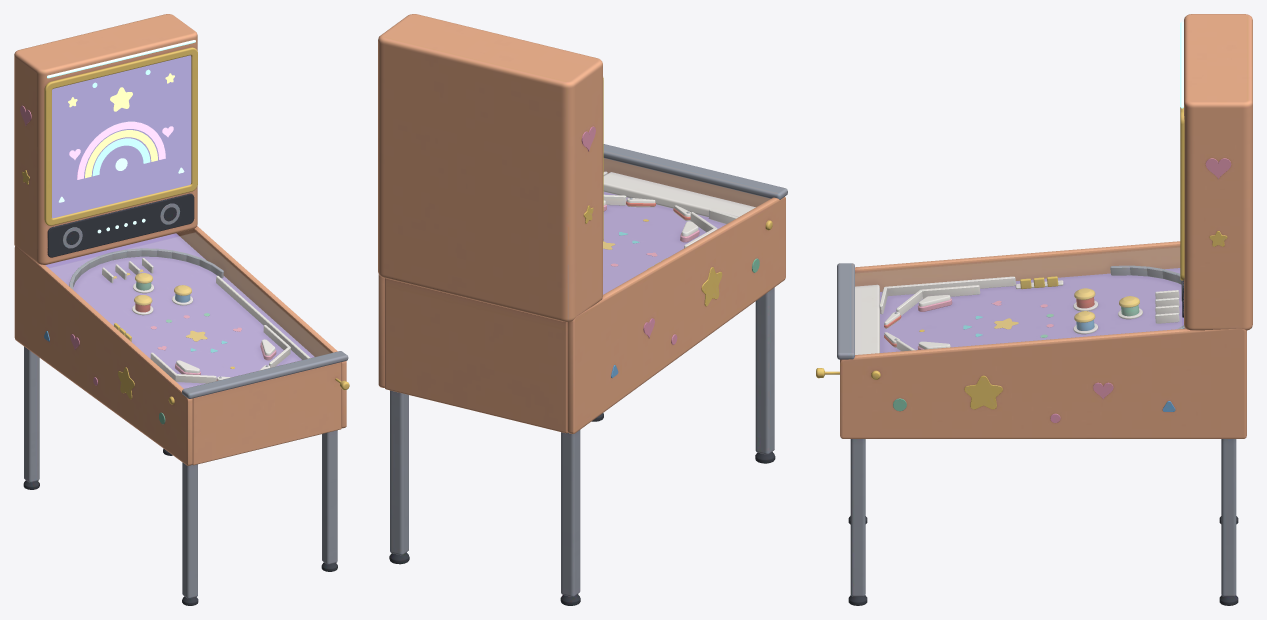
The model's file is grab3d-pinball-machine.glb.
The picture shows the model from 3 angles, left to right: view 1: azimuth 30°, elevation 25°; view 2: azimuth 150°, elevation 25°; view 3: azimuth 270°, elevation 25°; orthographic projection. The views are drawn at different scales.
Visible parts, largest first — view 1: pinball-machine_body, pinball-machine_glass, pinball-machine_backglass_glow, pinball-machine_top_neon; view 2: pinball-machine_body, pinball-machine_glass; view 3: pinball-machine_body, pinball-machine_glass.
Boxes of the visible parts, box(x1,y1,x2,y2) form: pinball-machine_body: box(14, 14, 349, 605); pinball-machine_glass: box(49, 232, 329, 388); pinball-machine_backglass_glow: box(52, 55, 191, 233); pinball-machine_top_neon: box(47, 40, 195, 78); pinball-machine_body: box(378, 14, 787, 605); pinball-machine_glass: box(603, 158, 769, 294); pinball-machine_body: box(816, 14, 1252, 605); pinball-machine_glass: box(855, 247, 1181, 354).
Bounding box in the file's own units: 0.744 × 1.86 × 1.46.
Materials: 12 (1 with a texture image).
